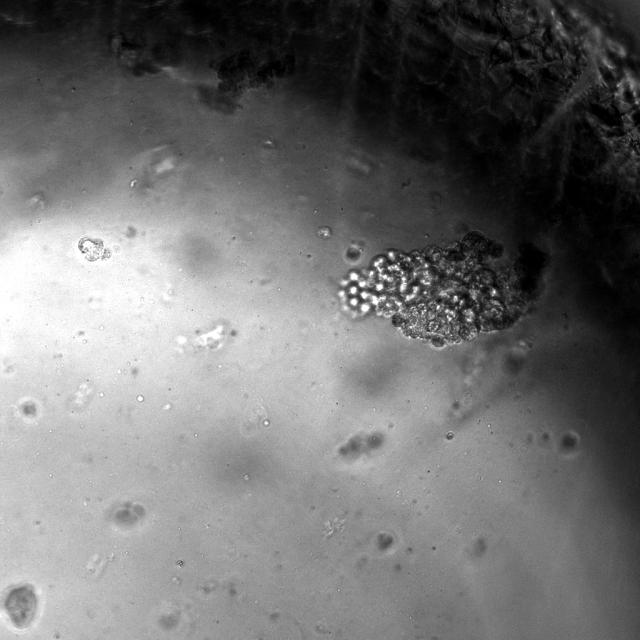organoid: (339, 231, 532, 346), (194, 48, 294, 113), (109, 23, 182, 76), (0, 581, 41, 633), (338, 431, 385, 461), (104, 500, 146, 532), (79, 237, 111, 261), (14, 397, 41, 423), (558, 430, 580, 458), (504, 349, 524, 374), (343, 241, 363, 262), (377, 532, 394, 550), (317, 226, 332, 238), (446, 430, 454, 440)
